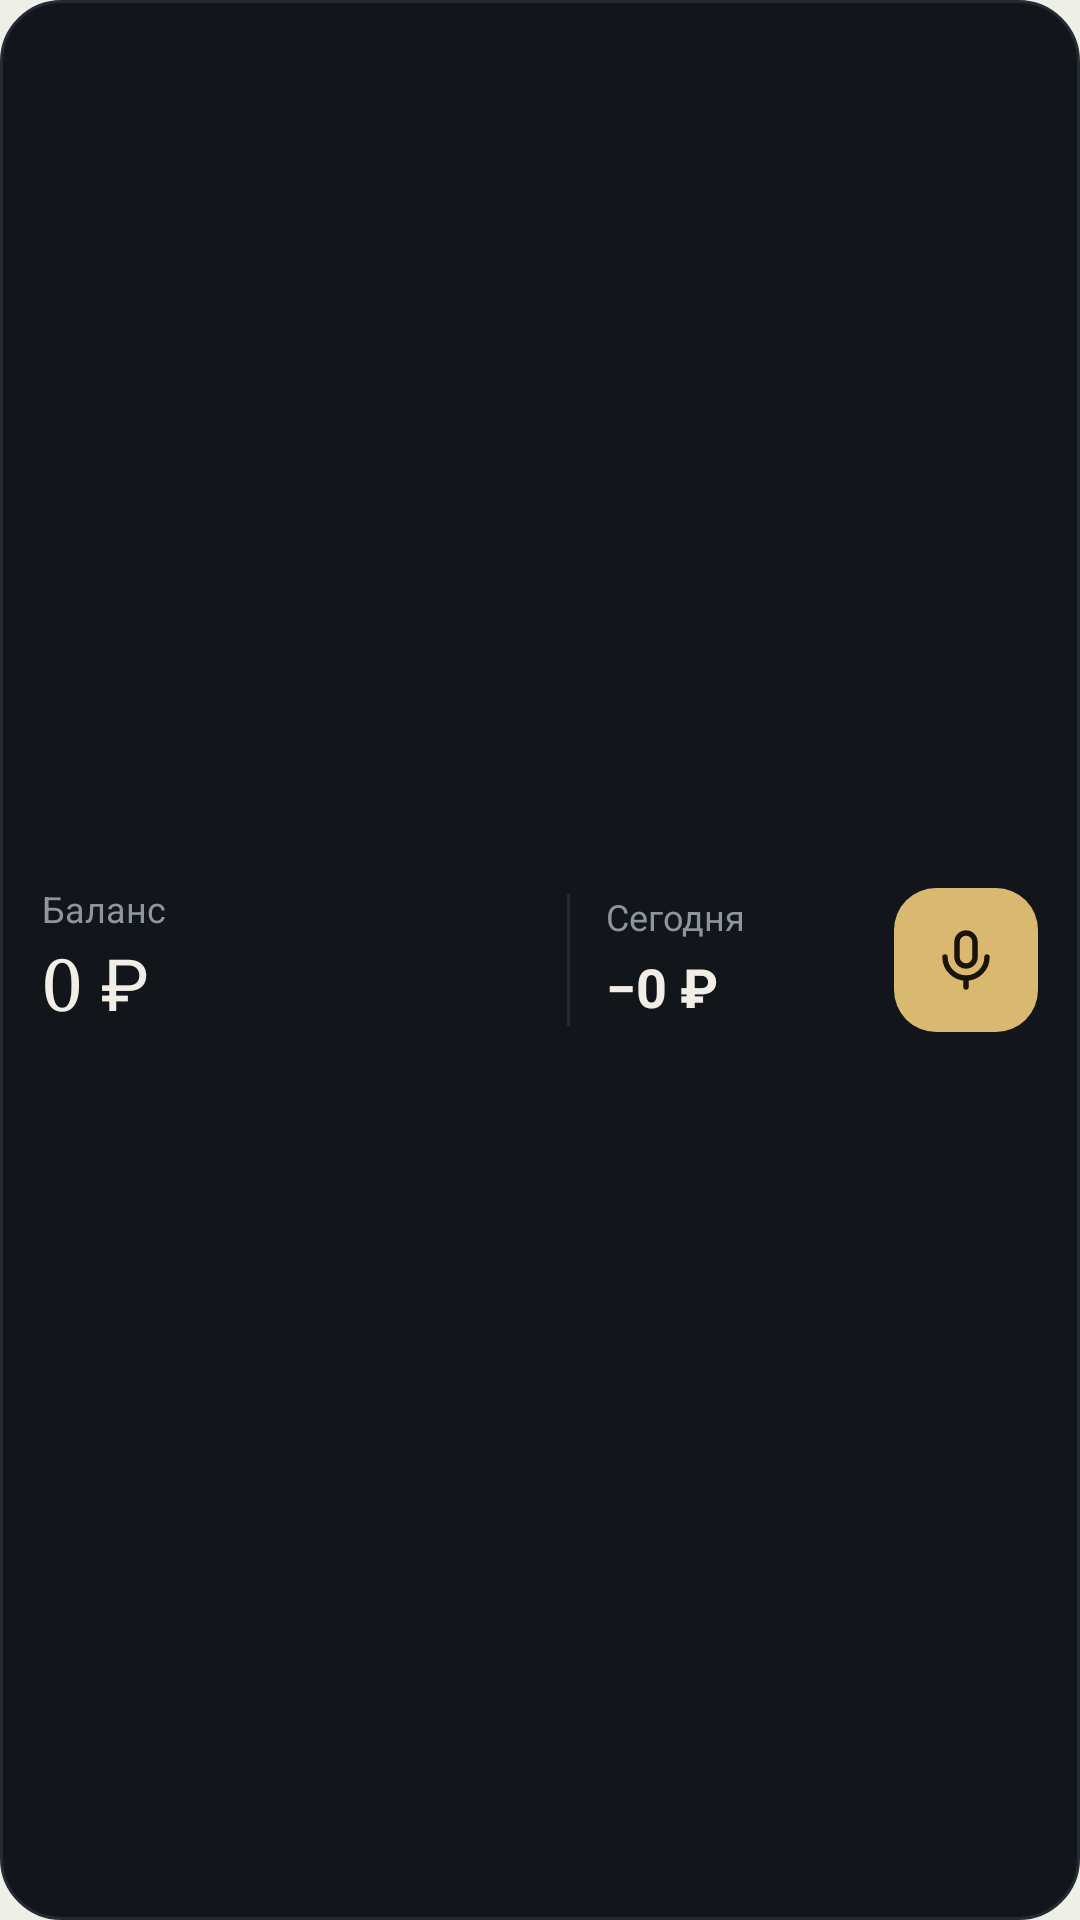

Named icons in this screenshot (1080px×1920px) and their centers, (x=x, y=y):
Сказать вслух: (x=966, y=960)
